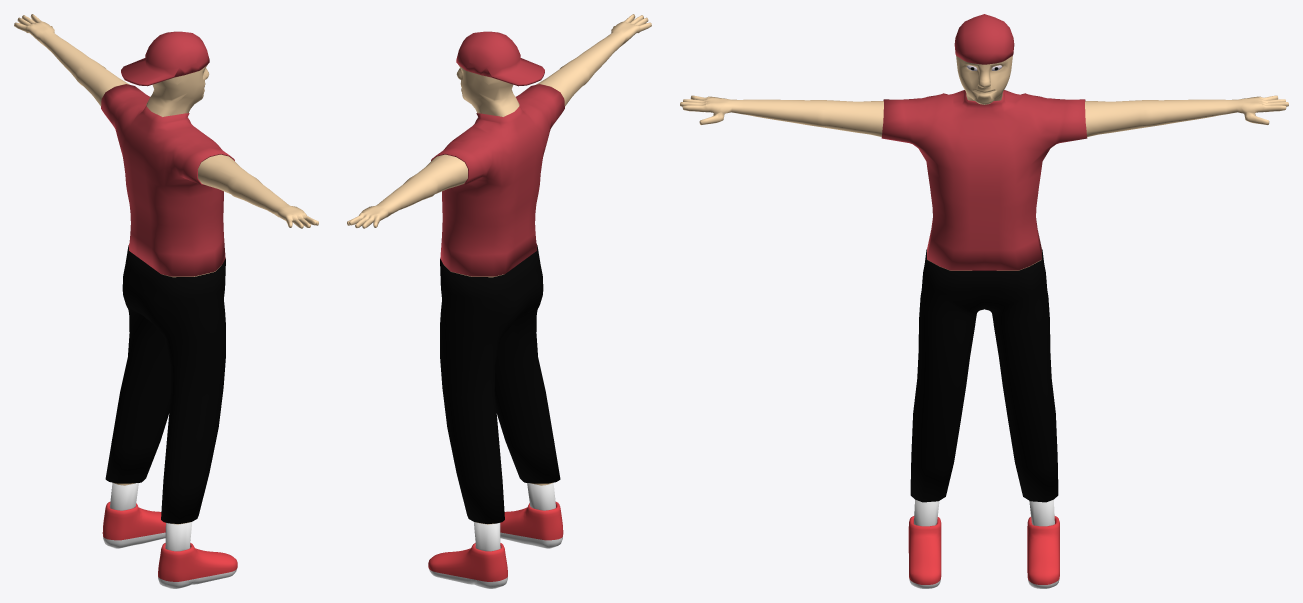
The model's file is PizzaBoy.fbx.
3 renders of one model, left to right at view 1: azimuth 30°, elevation 25°; view 2: azimuth 150°, elevation 25°; view 3: azimuth 270°, elevation 25°, orthographic. The views are drawn at different scales.
Parts seen in each view (by area): view 1: Phant, Shirt.001, Body, Shoe.001, cap, socks.001; view 2: Phant, Shirt.001, Body, Shoe.001, cap, socks.001; view 3: Phant, Shirt.001, Body, Shoe.001, cap, socks.001.
Part boxes in pixels (<box>): Phant: <box>105,245,225,523</box>; Shirt.001: <box>101,84,234,276</box>; Body: <box>14,14,318,524</box>; Shoe.001: <box>102,502,237,588</box>; cap: <box>121,31,209,86</box>; socks.001: <box>110,482,192,551</box>; Phant: <box>440,245,560,523</box>; Shirt.001: <box>431,84,564,276</box>; Body: <box>347,14,651,524</box>; Shoe.001: <box>428,502,563,588</box>; cap: <box>456,31,544,86</box>; socks.001: <box>474,482,555,551</box>; Phant: <box>910,249,1058,502</box>; Shirt.001: <box>881,90,1087,270</box>; Body: <box>680,55,1288,270</box>; Shoe.001: <box>908,516,1059,588</box>; cap: <box>954,14,1014,64</box>; socks.001: <box>914,499,1054,526</box>.
Bounding box in the file's own units: 61 × 360 × 355.
